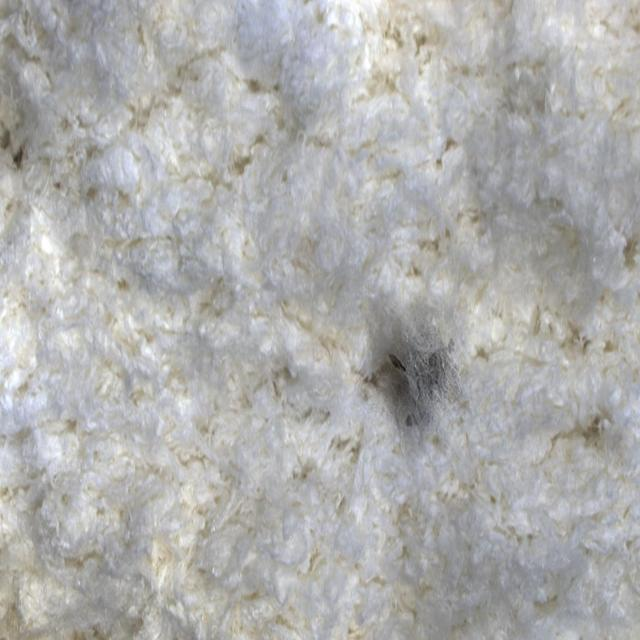dust: (295, 260, 505, 474)
